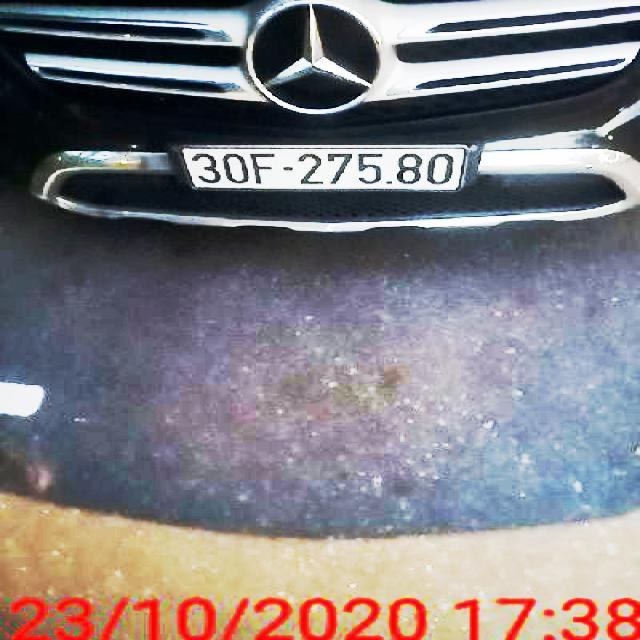license_plate: (184, 149, 466, 191)
